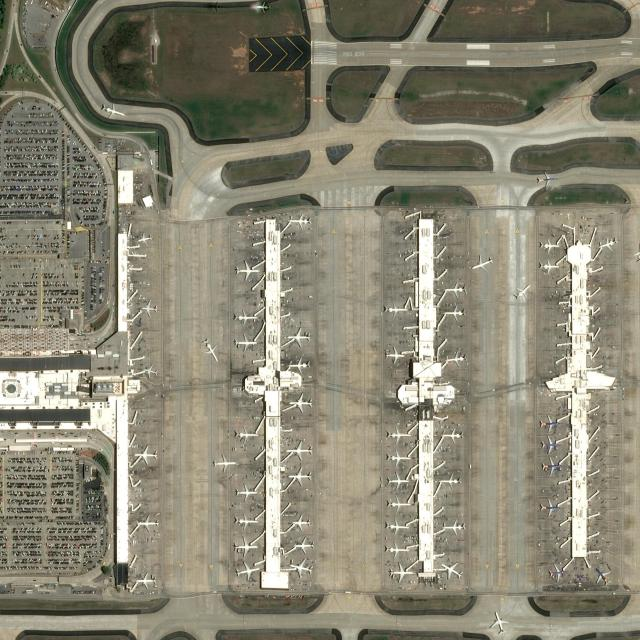aircraft: (234, 258, 260, 282), (285, 439, 313, 461), (132, 443, 158, 466), (287, 464, 312, 487), (232, 535, 258, 557), (388, 560, 414, 582), (384, 424, 412, 444), (286, 325, 311, 347), (488, 610, 510, 634), (234, 482, 260, 502), (233, 332, 257, 353), (439, 560, 464, 580), (232, 308, 258, 327), (385, 448, 411, 467), (288, 392, 312, 412), (442, 303, 466, 323), (235, 560, 259, 580), (289, 558, 313, 578), (233, 426, 258, 445), (212, 453, 237, 472), (232, 512, 258, 530), (382, 300, 408, 318), (538, 412, 559, 434), (538, 496, 560, 517), (385, 471, 409, 490), (292, 536, 316, 555), (287, 212, 312, 230), (443, 280, 468, 298), (443, 350, 468, 368), (441, 517, 466, 535), (136, 512, 158, 532), (540, 456, 562, 476), (290, 512, 312, 532), (286, 356, 310, 374), (386, 495, 410, 513), (438, 471, 460, 490), (384, 518, 410, 534), (470, 254, 493, 272), (201, 338, 218, 362), (384, 540, 408, 557), (384, 344, 404, 364), (540, 434, 560, 454), (442, 426, 464, 444), (134, 571, 156, 589), (139, 298, 158, 318), (548, 562, 566, 582), (538, 237, 560, 253), (594, 566, 612, 585), (538, 258, 558, 275), (512, 282, 530, 300), (598, 235, 618, 251), (142, 362, 158, 378), (136, 232, 152, 246)
